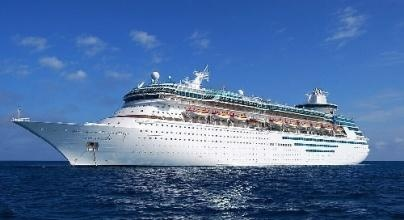youlun: (13, 69, 370, 167)
